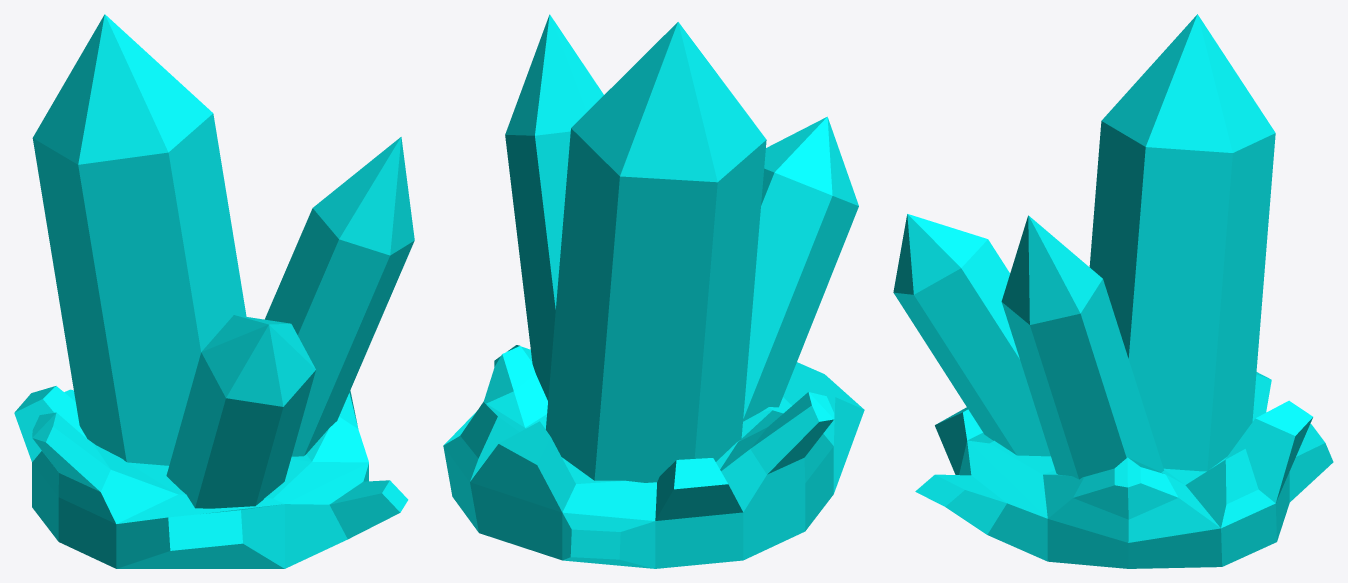
File: Crystal.fbx
The picture shows the model from 3 angles, left to right: view 1: azimuth 30°, elevation 25°; view 2: azimuth 150°, elevation 25°; view 3: azimuth 270°, elevation 25°; orthographic projection. The views are drawn at different scales.
Visible parts, largest first — view 1: Crystal; view 2: Crystal; view 3: Crystal.
Boxes of the visible parts, left/top/right/bottom form: Crystal: left=14, top=14, right=414, bottom=568; Crystal: left=443, top=14, right=864, bottom=568; Crystal: left=893, top=14, right=1333, bottom=568.
Bounding box in the file's own units: 0.2747 × 0.3814 × 0.3303.
